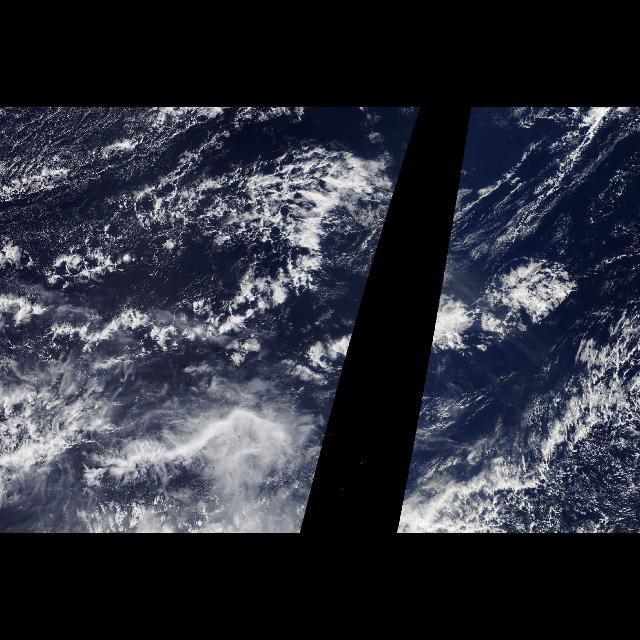Gravel: (48, 150, 382, 276)
Sugar: (2, 109, 196, 198)
